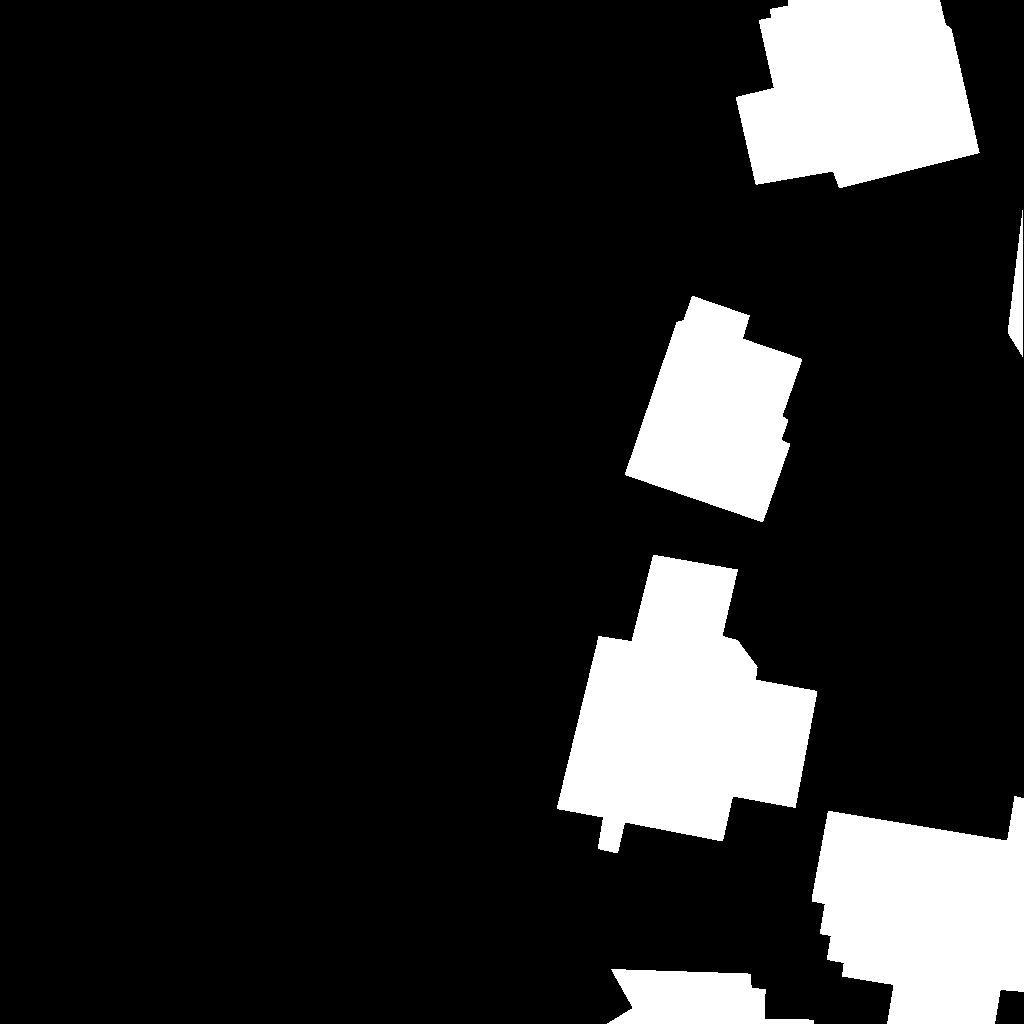building: (557, 555, 818, 854), (812, 796, 1024, 1024), (736, 0, 980, 189), (625, 296, 803, 523), (607, 968, 815, 1024), (1008, 206, 1024, 358)
